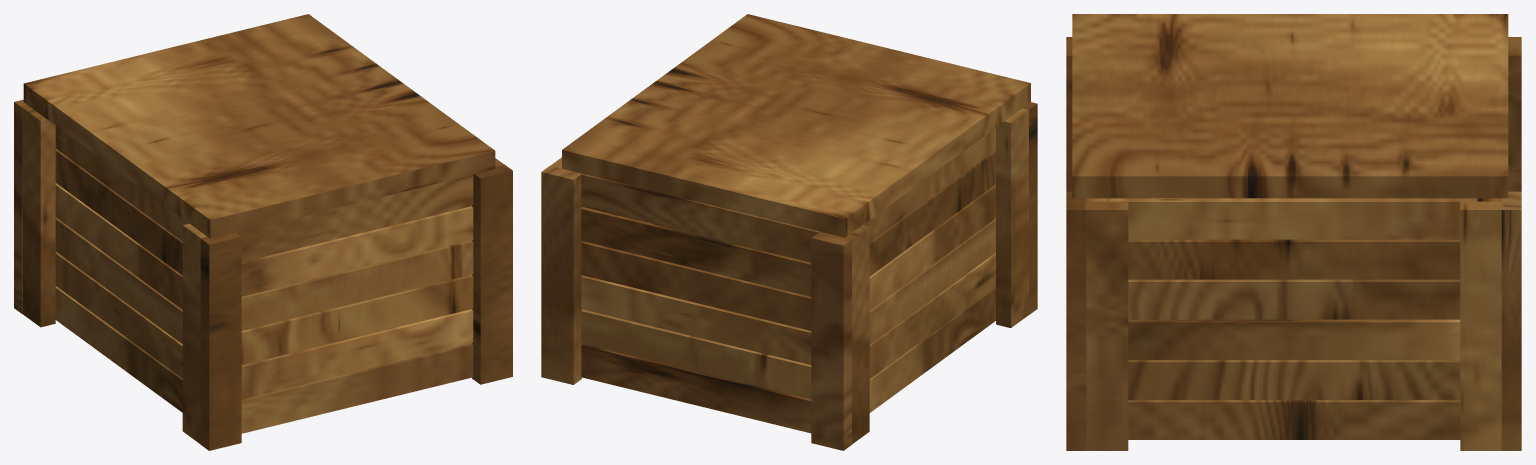
File: Yashik.fbx
3 views of the same model, side by side, from view 1: azimuth 30°, elevation 25°; view 2: azimuth 150°, elevation 25°; view 3: azimuth 270°, elevation 25° (orthographic). The views are drawn at different scales.
Visible parts, largest first — view 1: Cube; view 2: Cube; view 3: Cube.
Boxes of the visible parts, x1,y1,x2,y2 form: Cube: (14,14,512,450); Cube: (541,14,1037,450); Cube: (1066,14,1521,450).
Bounding box in the file's own units: 222 × 159 × 247.
1 material, 1 textured.
